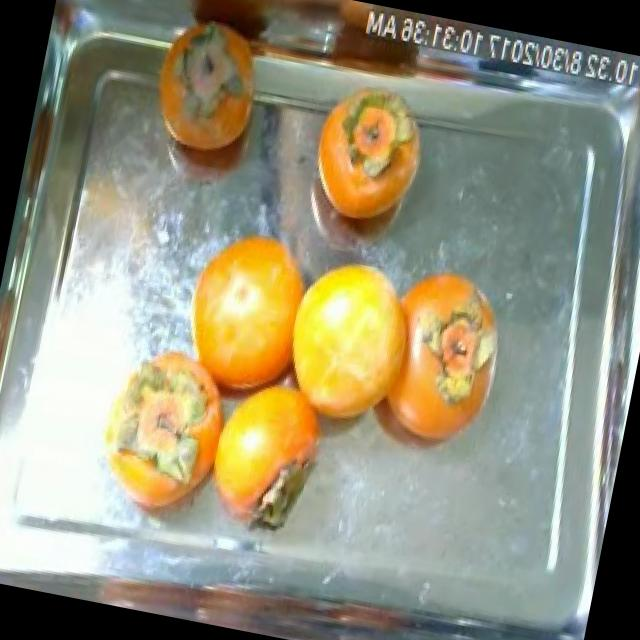Fruit: (162, 202, 332, 406), (292, 66, 446, 260), (364, 251, 522, 432), (82, 322, 224, 481), (85, 430, 207, 542)
